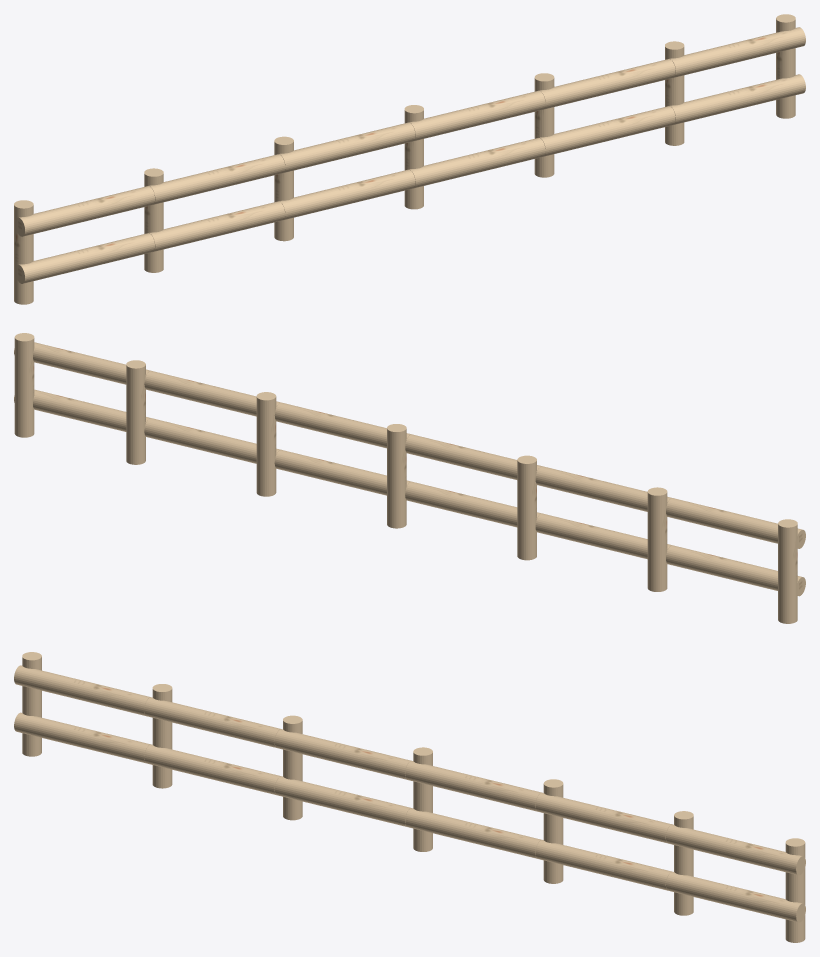
File: vallaMadera.fbx
The picture shows the model from 3 angles, top to bottom: view 1: azimuth 30°, elevation 25°; view 2: azimuth 150°, elevation 25°; view 3: azimuth 330°, elevation 25°; orthographic projection.
Visible parts, largest first — view 1: Cylinder.001_0; view 2: Cylinder.001_0; view 3: Cylinder.001_0.
Boxes of the visible parts, box(x1,y1,x2,y2) form: Cylinder.001_0: box(14, 14, 805, 304); Cylinder.001_0: box(14, 333, 805, 623); Cylinder.001_0: box(14, 652, 805, 942).
Bounding box in the file's own units: 1350 × 159 × 43.74.
